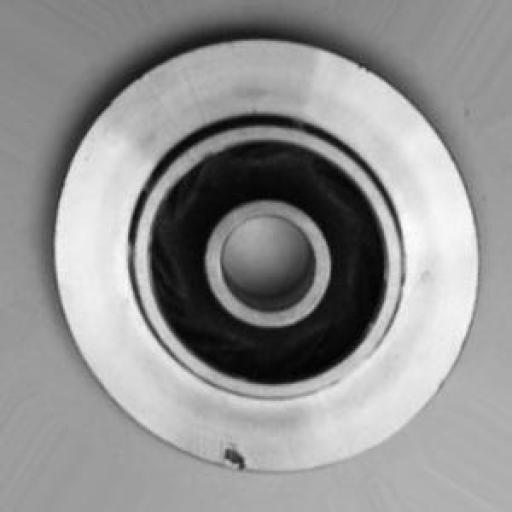defect: (207, 429, 261, 492)
